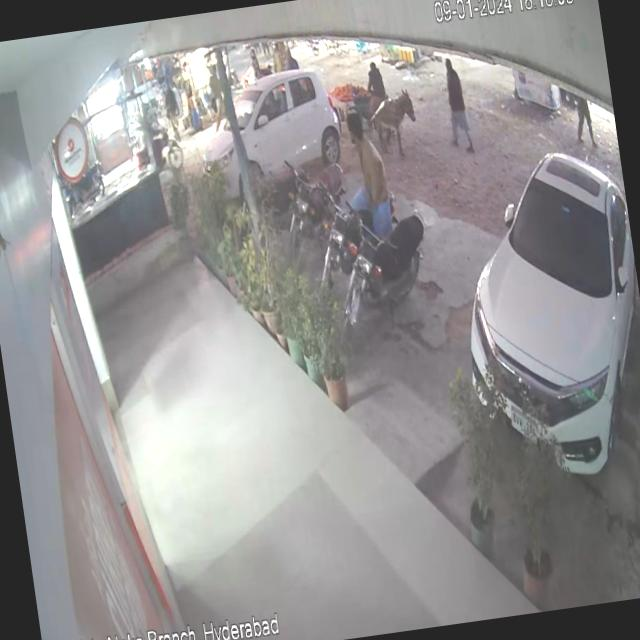Car: (434, 98, 640, 501), (170, 52, 350, 194)
Motorcycle: (323, 225, 450, 352), (299, 179, 413, 294), (281, 150, 359, 250)
